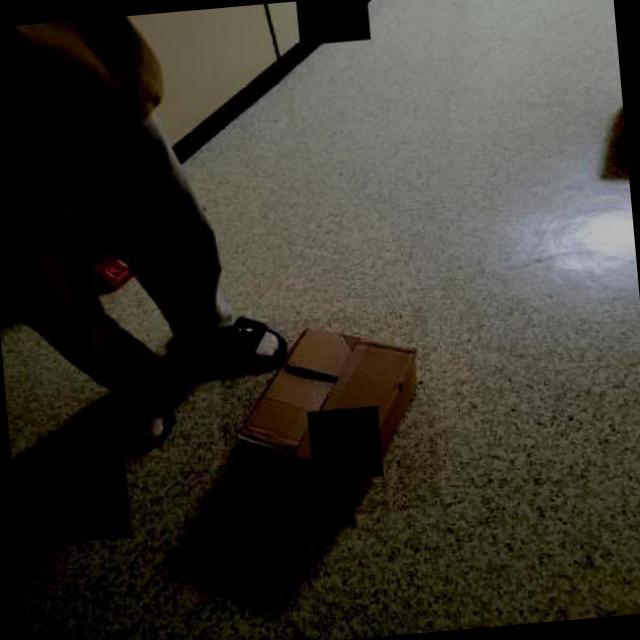box: (213, 308, 444, 525)
